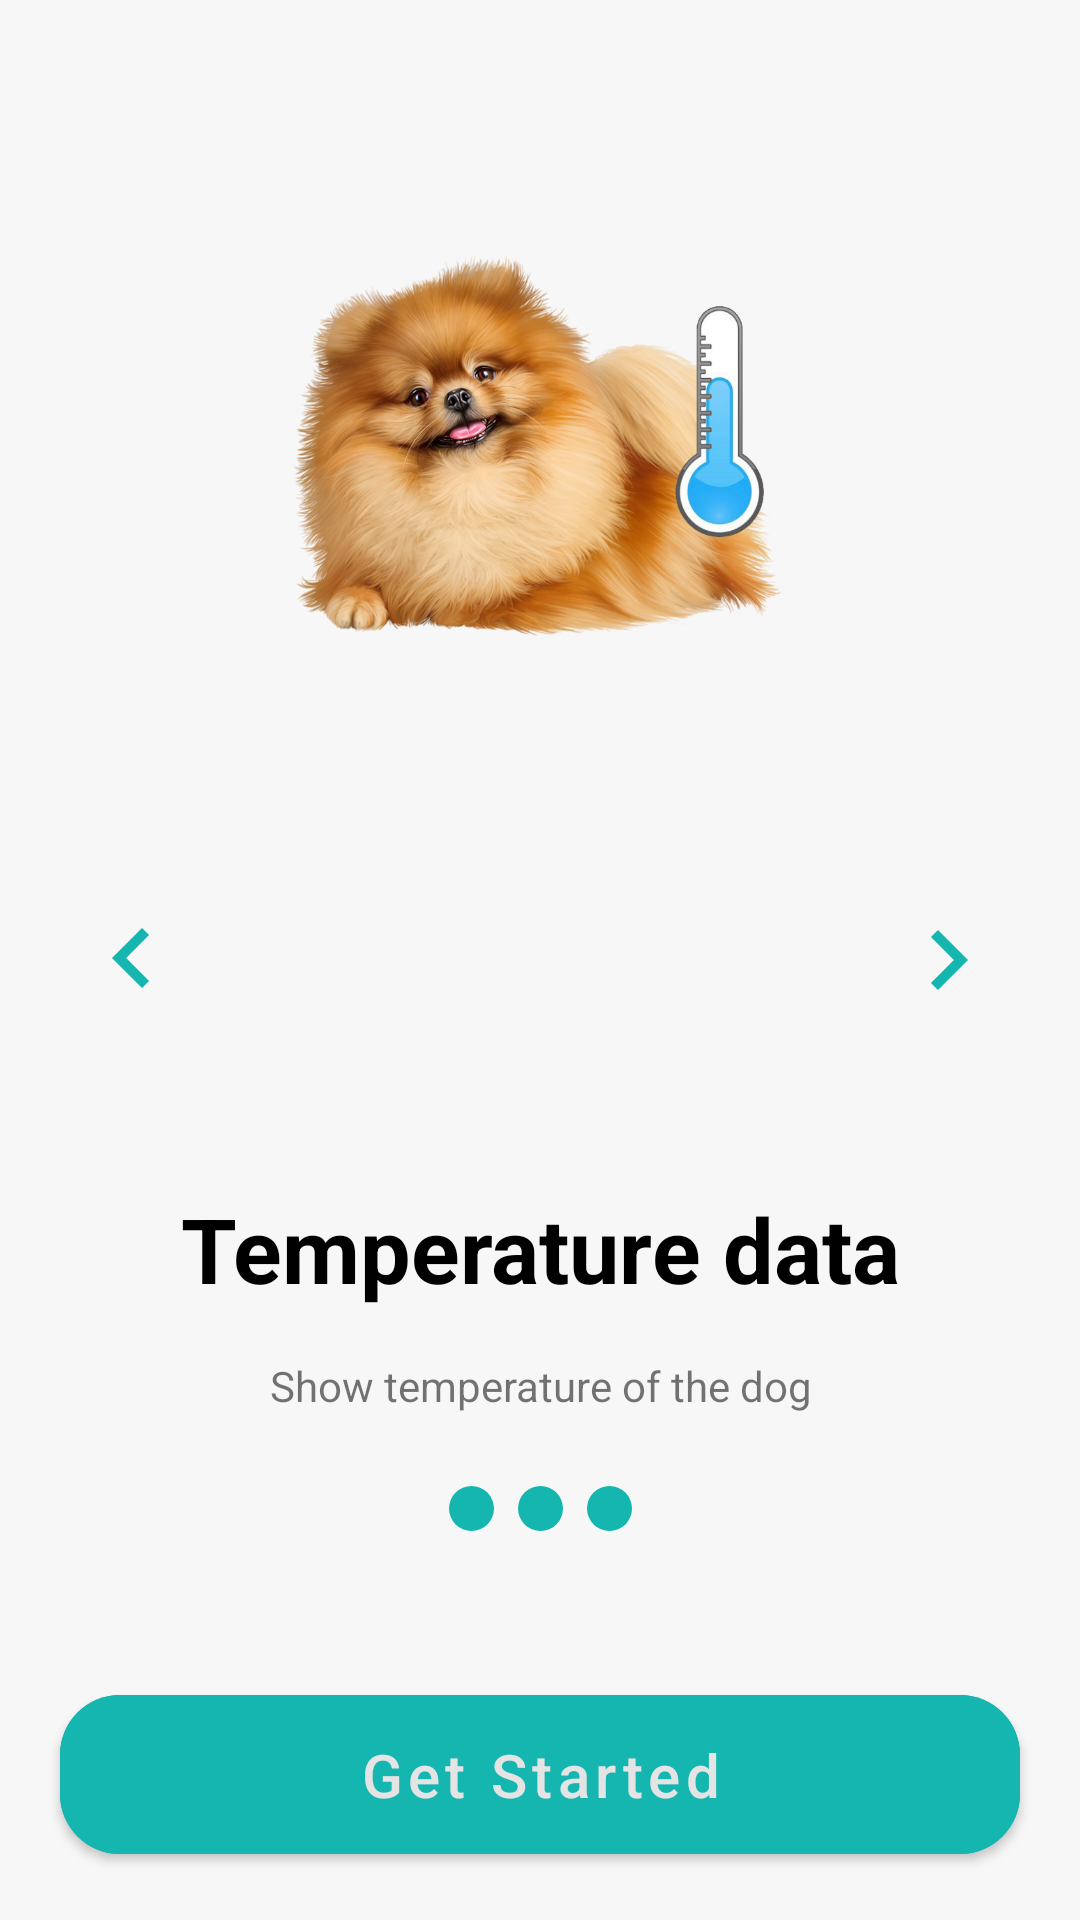

Where to tap for icons on this 1080px×1920px app screen, as (x=x, y=y):
back: (x=130, y=958)
next: (x=949, y=960)
